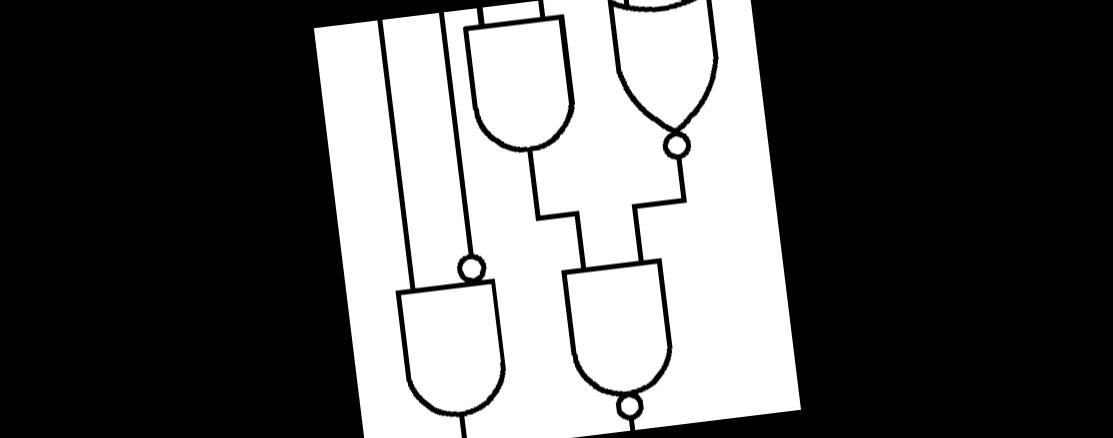and: (454, 5, 589, 168)
nand: (550, 245, 688, 435)
